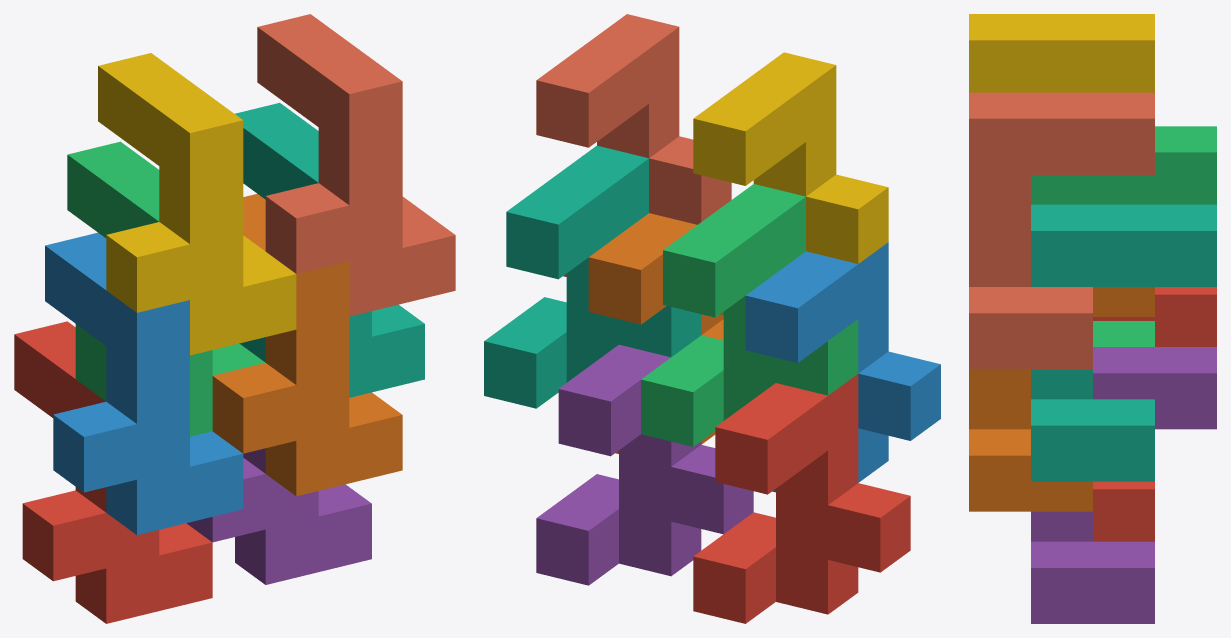
Rendered from tiling.obj.
3 renders of one model, left to right at view 1: azimuth 30°, elevation 25°; view 2: azimuth 150°, elevation 25°; view 3: azimuth 270°, elevation 25°, orthographic. The views are drawn at different scales.
Parts seen in each view (by area): view 1: copy_1_domain_8, copy_1_domain_4, copy_1_domain_2, copy_1_domain_6, copy_1_domain_1, copy_1_domain_5, copy_1_domain_7, copy_1_domain_3; view 2: copy_1_domain_1, copy_1_domain_5, copy_1_domain_3, copy_1_domain_7, copy_1_domain_4, copy_1_domain_8, copy_1_domain_2, copy_1_domain_6; view 3: copy_1_domain_8, copy_1_domain_7, copy_1_domain_5, copy_1_domain_4, copy_1_domain_6, copy_1_domain_3, copy_1_domain_1.
Boxes of the visible parts, x1,y1,x2,y2 form: copy_1_domain_8: (257, 14, 455, 316); copy_1_domain_4: (98, 53, 296, 355); copy_1_domain_2: (45, 232, 243, 534); copy_1_domain_6: (212, 193, 402, 496); copy_1_domain_1: (14, 321, 212, 623); copy_1_domain_5: (186, 448, 371, 584); copy_1_domain_7: (234, 102, 424, 397); copy_1_domain_3: (67, 141, 265, 436); copy_1_domain_1: (693, 374, 910, 623); copy_1_domain_5: (536, 344, 753, 585); copy_1_domain_3: (641, 184, 858, 446); copy_1_domain_7: (484, 145, 701, 408); copy_1_domain_4: (693, 52, 888, 315); copy_1_domain_8: (536, 14, 731, 276); copy_1_domain_2: (745, 242, 940, 492); copy_1_domain_6: (588, 213, 723, 453); copy_1_domain_8: (969, 92, 1154, 369); copy_1_domain_7: (1031, 204, 1216, 481); copy_1_domain_5: (1031, 347, 1216, 623); copy_1_domain_4: (969, 14, 1154, 92); copy_1_domain_6: (969, 287, 1154, 511); copy_1_domain_3: (1031, 126, 1216, 346); copy_1_domain_1: (1093, 287, 1216, 541).
Bounding box in the file's own units: 7 × 9 × 4.
